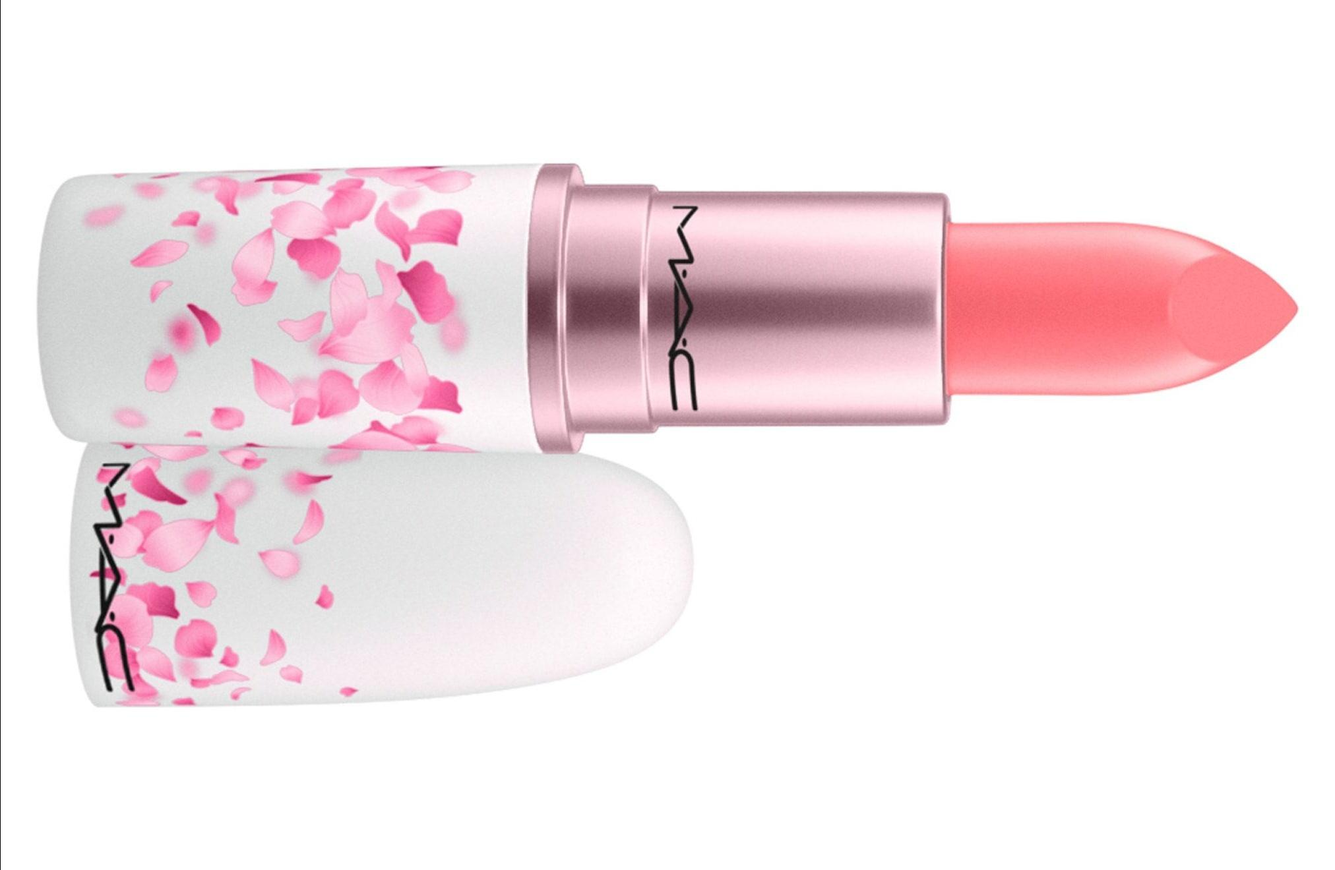lipstick: (37, 133, 1303, 692)
